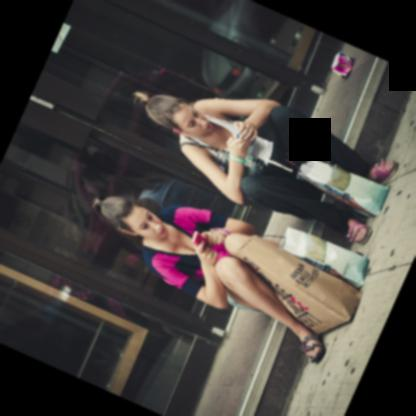handbag: (238, 234, 361, 335), (284, 152, 389, 218), (280, 228, 371, 286), (182, 141, 264, 176), (110, 246, 148, 286)
